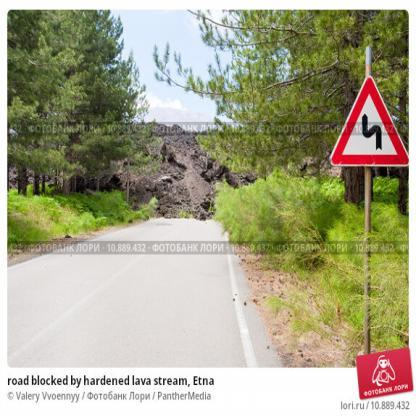road_sign: (331, 76, 408, 166)
